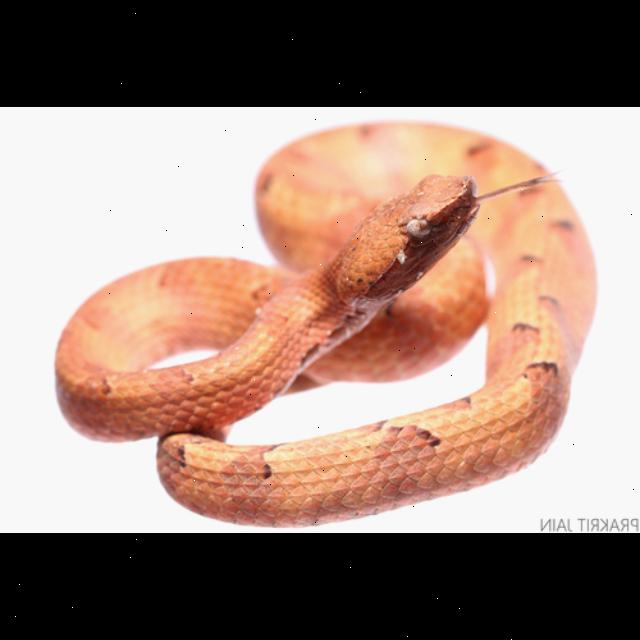snake: (47, 118, 595, 532)
